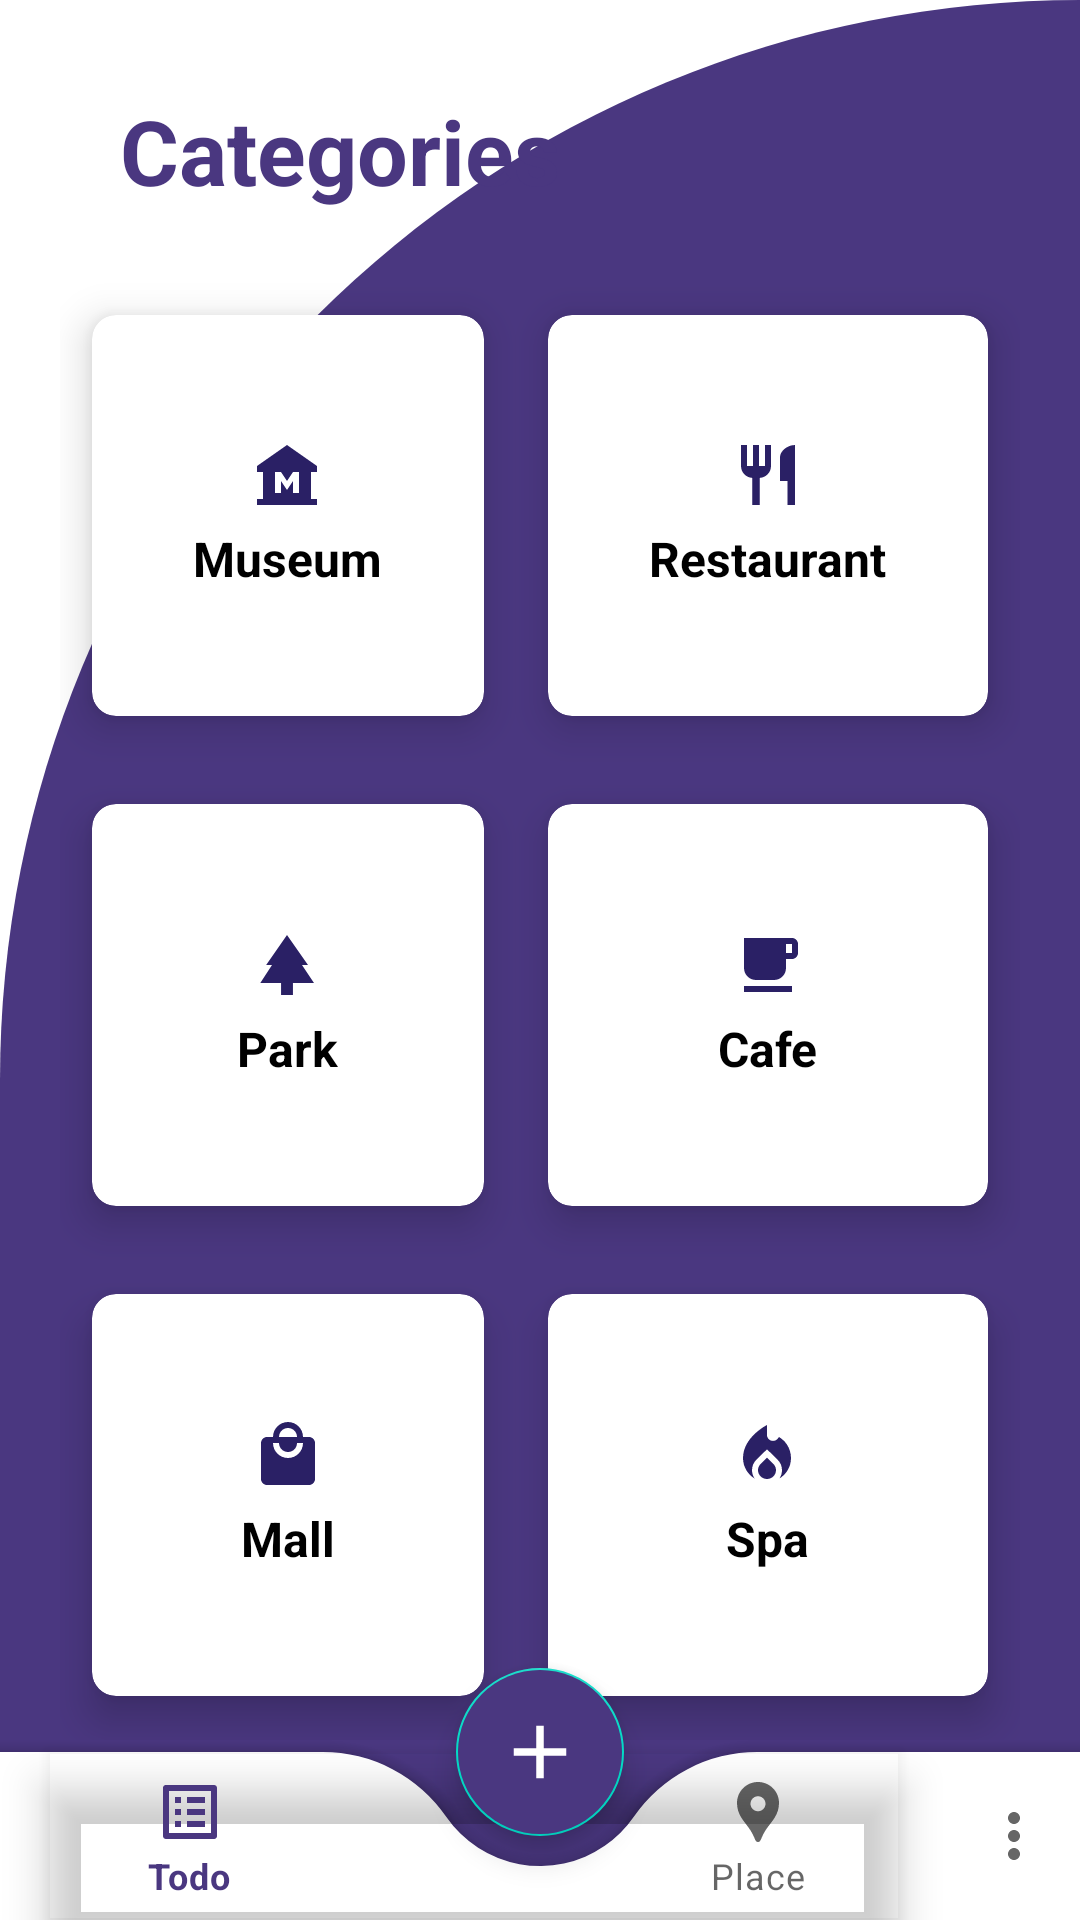

Named icons in this screenshot (1080w x 1920h) and their centers, (x=x, y=y):
Add Todo: (x=540, y=1752)
